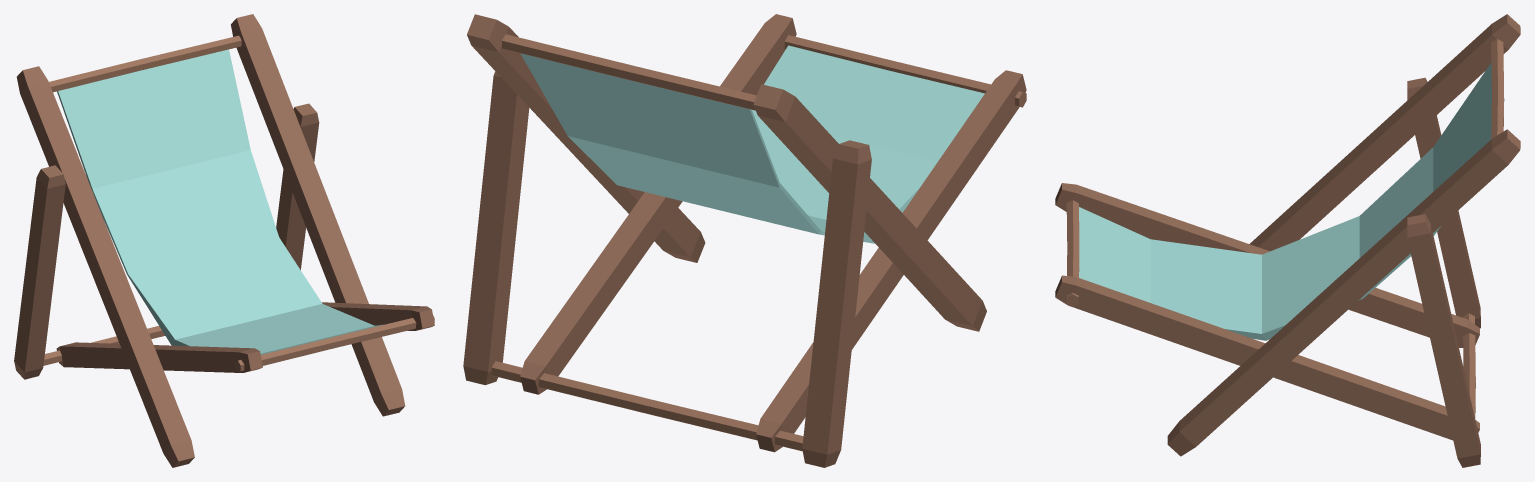
File: Beach_chair_02.fbx
The picture shows the model from 3 angles, left to right: view 1: azimuth 30°, elevation 25°; view 2: azimuth 150°, elevation 25°; view 3: azimuth 270°, elevation 25°; orthographic projection. The views are drawn at different scales.
Parts seen in each view (by area): view 1: Beach_chair_02; view 2: Beach_chair_02; view 3: Beach_chair_02.
Part boxes in pixels (left/top/right/bottom): Beach_chair_02: left=14, top=14, right=434, bottom=467; Beach_chair_02: left=463, top=14, right=1026, bottom=467; Beach_chair_02: left=1055, top=14, right=1520, bottom=467.
Bounding box in the file's own units: 103 × 105 × 138.
